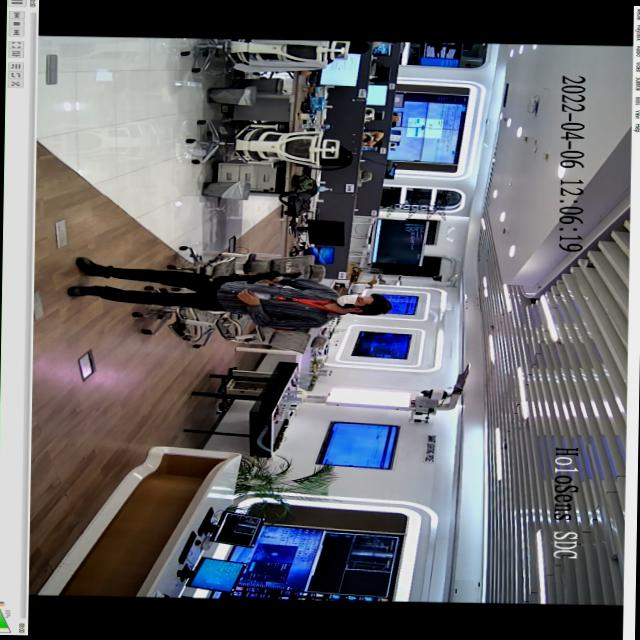long weapon: (212, 263, 302, 294)
